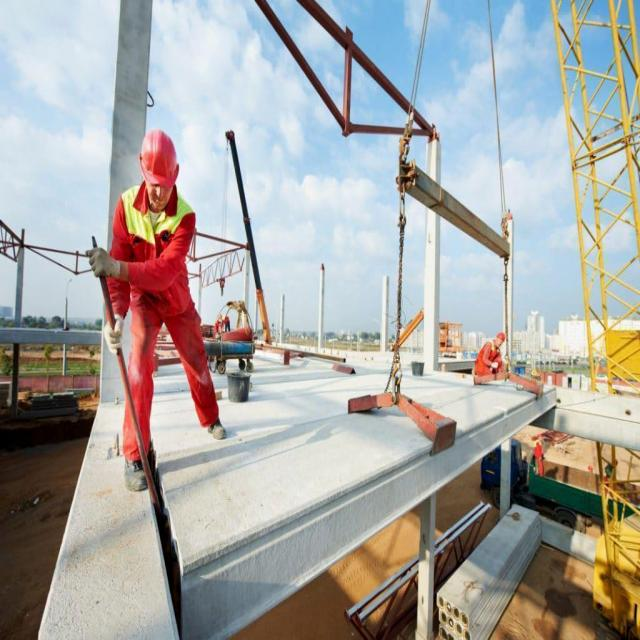face_nomask: (146, 178, 178, 210)
hand_glove: (102, 304, 127, 363), (83, 241, 110, 283)
head_helmet: (142, 126, 182, 185), (496, 333, 506, 341)
person: (100, 120, 216, 478), (472, 332, 506, 382)
shoes: (119, 442, 151, 499), (206, 414, 228, 442)
